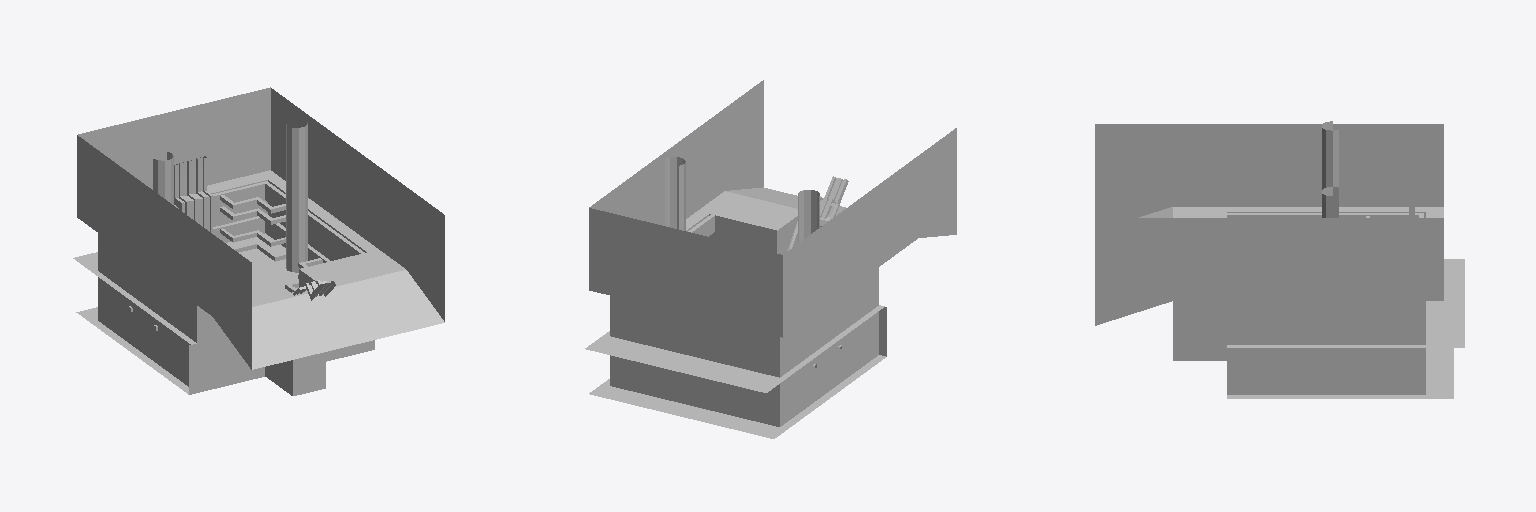
Rendered from BATTLE-GREEN-2.obj.
The picture shows the model from 3 angles: view 1: azimuth 30°, elevation 25°; view 2: azimuth 150°, elevation 25°; view 3: azimuth 270°, elevation 25°; orthographic projection.
Visible parts, largest first — view 1: polygon2, polygon3, polygon16, polygon8, polygon0, polygon10, polygon1, polygon11, polygon6, polygon5, polygon15; view 2: polygon2, polygon3, polygon16, polygon1, polygon15, polygon10, polygon0, polygon11, polygon4; view 3: polygon2, polygon3, polygon16, polygon1, polygon15, polygon0, polygon11, polygon8, polygon10.
Part boxes in pixels (x1,y1,x2,y2): polygon2: (79, 87, 387, 341); polygon3: (189, 174, 444, 395); polygon16: (98, 277, 190, 386); polygon8: (174, 181, 364, 257); polygon0: (77, 88, 386, 342); polygon10: (153, 145, 307, 251); polygon1: (73, 233, 298, 344); polygon11: (153, 122, 307, 272); polygon6: (129, 156, 212, 330); polygon5: (179, 157, 329, 295); polygon15: (76, 307, 188, 394); polygon2: (589, 122, 899, 376); polygon3: (704, 80, 956, 356); polygon16: (610, 311, 878, 426); polygon1: (585, 305, 884, 392); polygon15: (589, 355, 885, 438); polygon10: (665, 178, 819, 242); polygon0: (589, 204, 878, 377); polygon11: (665, 157, 819, 215); polygon4: (787, 176, 848, 250); polygon2: (1209, 124, 1443, 344); polygon3: (1095, 124, 1226, 360); polygon16: (1227, 348, 1425, 394); polygon1: (1227, 259, 1464, 347); polygon15: (1227, 348, 1453, 398); polygon0: (1209, 124, 1443, 344); polygon11: (1322, 121, 1338, 216); polygon8: (1227, 213, 1423, 217); polygon10: (1322, 149, 1338, 217).
Bounding box in the file's own units: 6.12 × 5.88 × 10.12.